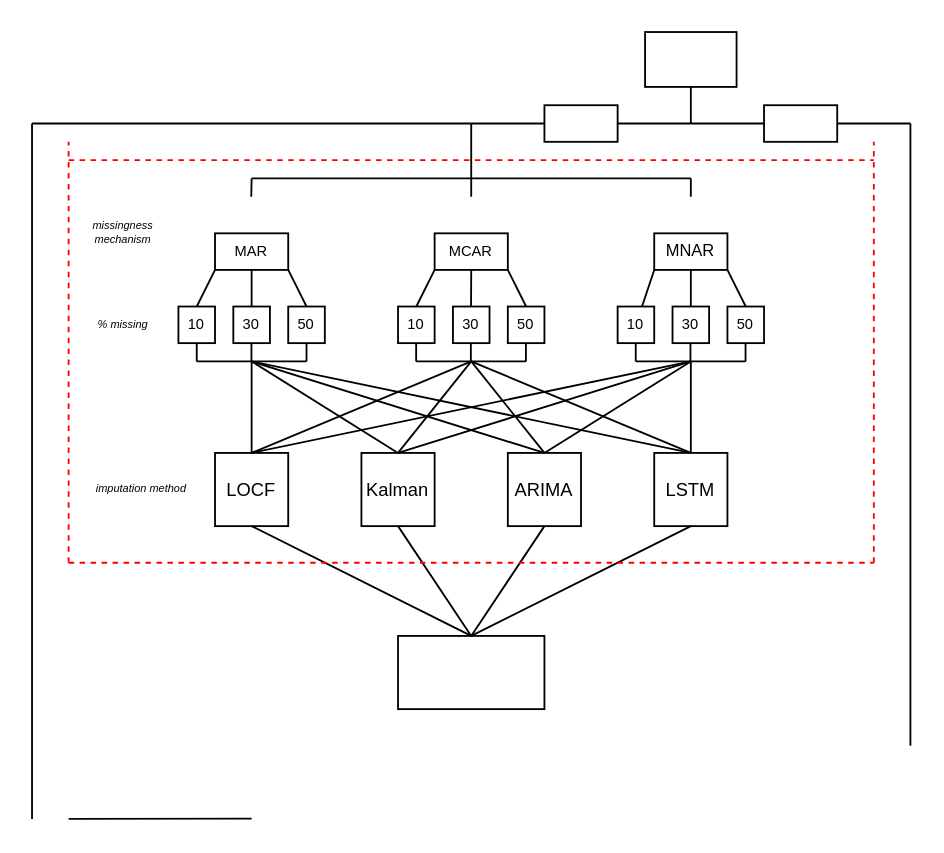
The diagram is 944 pixels wide and 853 high, and some of its shapes have lost their labels. Each missing label, with the centre of its shape:
DATA: the point at 690,58
Reconstruction evaluation: the point at 470,671
test: the point at 799,122
train: the point at 580,122
